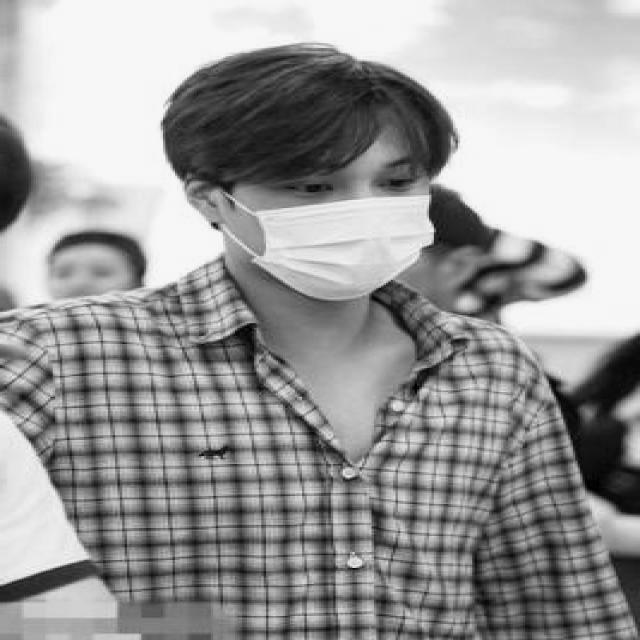real: (222, 110, 437, 294)
